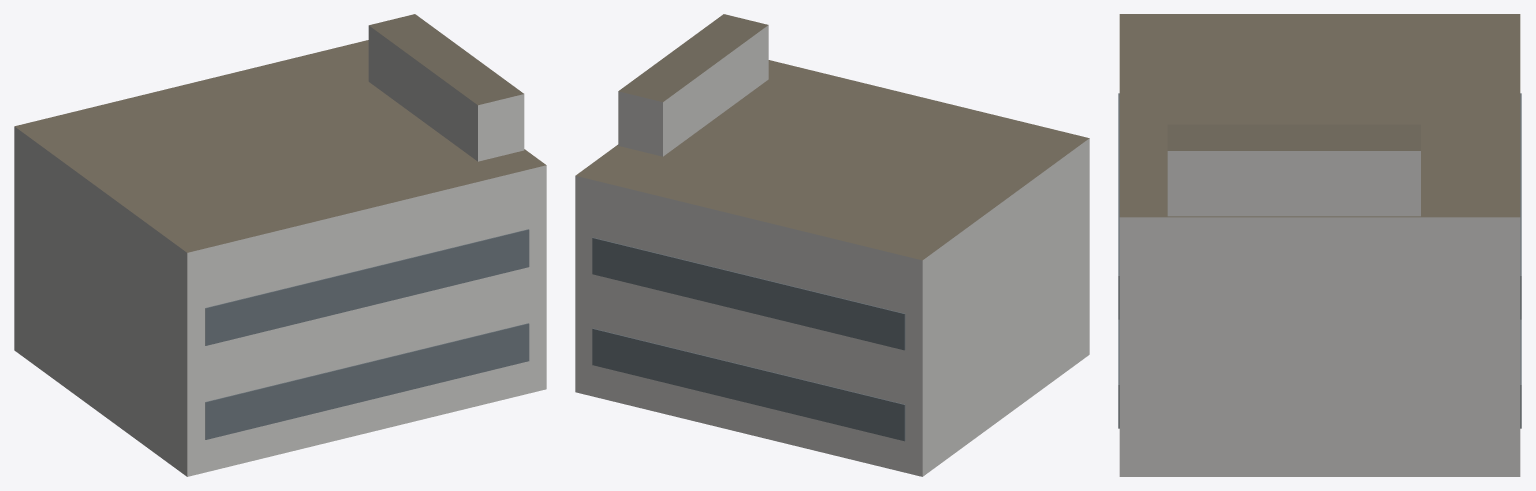
Rendered from bay-villa-white.tone-v1.lod2.glb.
3 views of the same model, side by side, from view 1: azimuth 30°, elevation 25°; view 2: azimuth 150°, elevation 25°; view 3: azimuth 270°, elevation 25° (orthographic). The views are drawn at different scales.
Parts seen in each view (by area): view 1: bay-villa-white; view 2: bay-villa-white; view 3: bay-villa-white.
Part boxes in pixels (left/top/right/bottom): bay-villa-white: left=14, top=14, right=546, bottom=476; bay-villa-white: left=575, top=14, right=1089, bottom=476; bay-villa-white: left=1118, top=14, right=1521, bottom=476.
Size of the model in its own units: 12 by 8.95 by 10.06.
